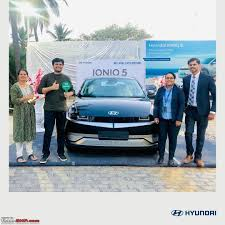Honda Ioniq: (67, 74, 159, 154)
